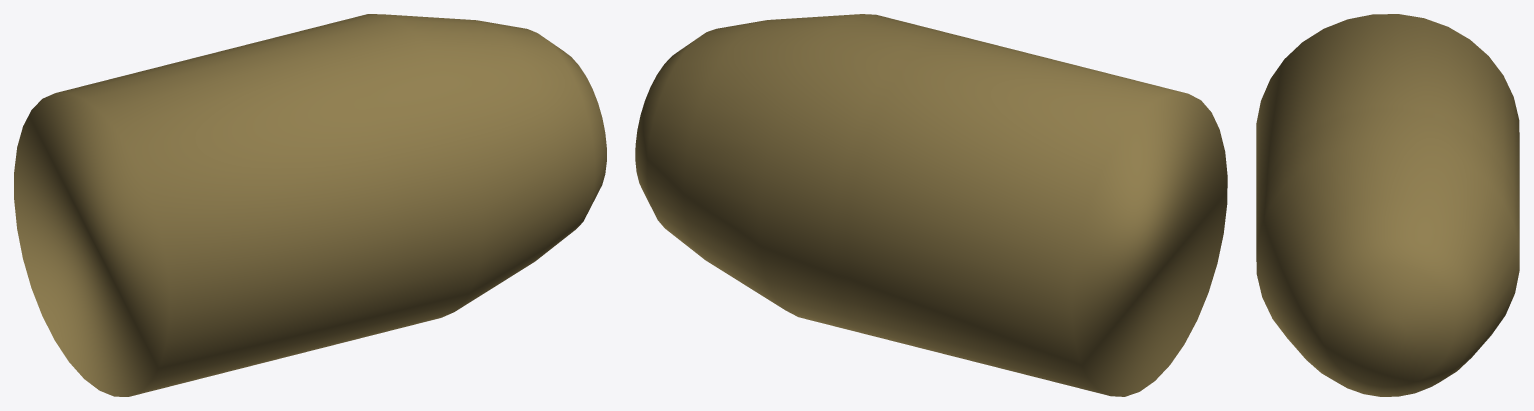
Rendered from bullet.dae.
3 renders of one model, left to right at view 1: azimuth 30°, elevation 25°; view 2: azimuth 150°, elevation 25°; view 3: azimuth 270°, elevation 25°, orthographic. The views are drawn at different scales.
Visible parts, largest first — view 1: Cylinder; view 2: Cylinder; view 3: Cylinder.
Boxes of the visible parts, x1,y1,x2,y2 form: Cylinder: (14, 14, 606, 396); Cylinder: (635, 14, 1227, 396); Cylinder: (1256, 14, 1519, 396).
Size of the model in its own units: 3.67 by 1.99 by 2.01.
